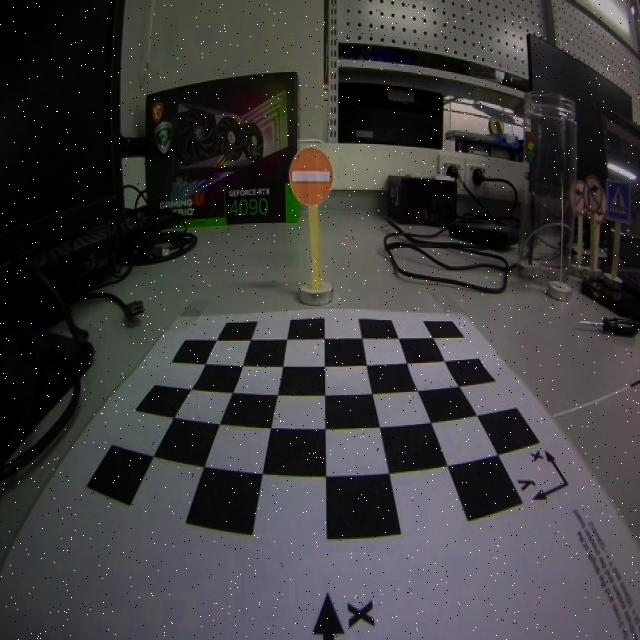Dilarang Masuk: (288, 145, 333, 208)
Rambu Penyebrangan: (604, 179, 632, 223)
